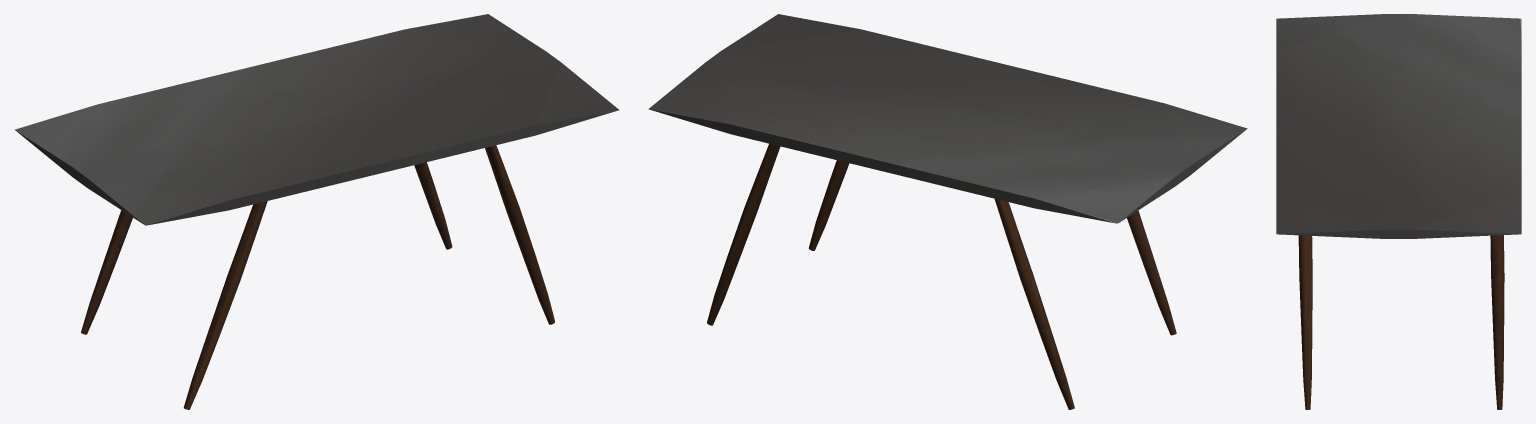
File: Table.FBX
The picture shows the model from 3 angles, left to right: view 1: azimuth 30°, elevation 25°; view 2: azimuth 150°, elevation 25°; view 3: azimuth 270°, elevation 25°; orthographic projection. The views are drawn at different scales.
Parts seen in each view (by area): view 1: Table; view 2: Table; view 3: Table.
Part boxes in pixels (x1,y1,x2,y2): Table: (14, 14, 619, 409); Table: (648, 14, 1247, 409); Table: (1276, 14, 1521, 409).
Bounding box in the file's own units: 1.5 × 0.6612 × 0.72.
